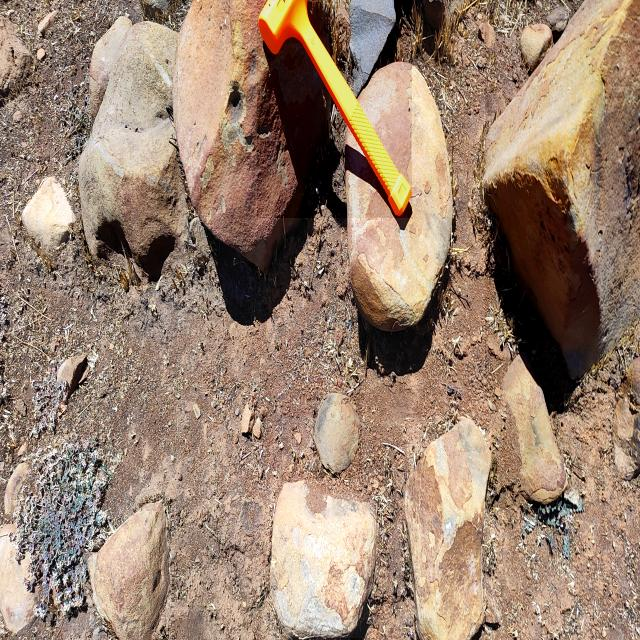Orange_hammer: (257, 0, 412, 218)
rock: (485, 0, 640, 393), (72, 16, 178, 286), (400, 415, 501, 640), (270, 478, 376, 638), (94, 503, 174, 637), (492, 369, 564, 508), (22, 176, 75, 263), (313, 394, 362, 480)
